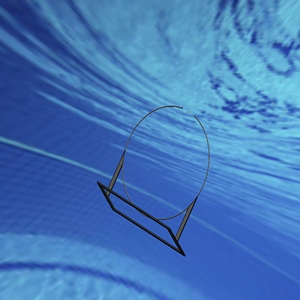circle: (96, 103, 212, 256)
